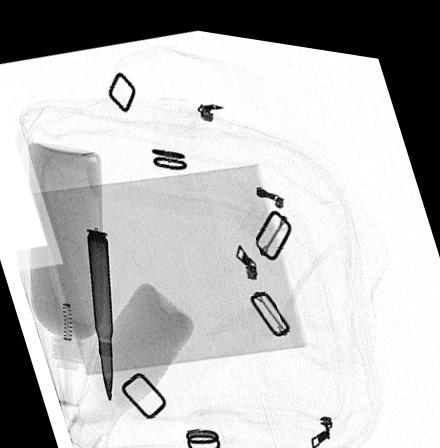Bullet: (85, 225, 113, 401)
